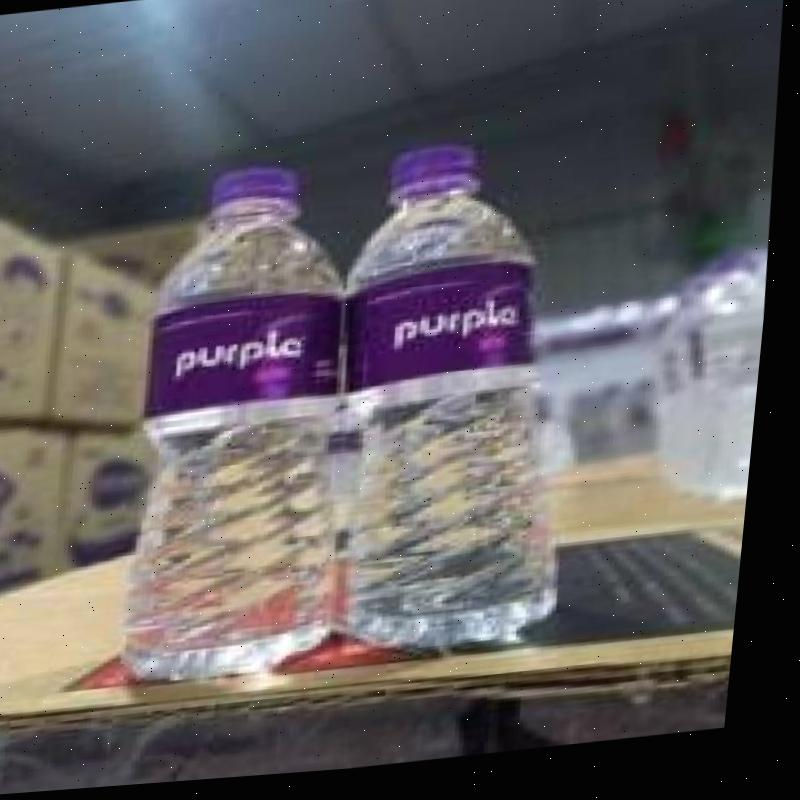botella: (320, 137, 605, 662), (110, 163, 387, 686)
